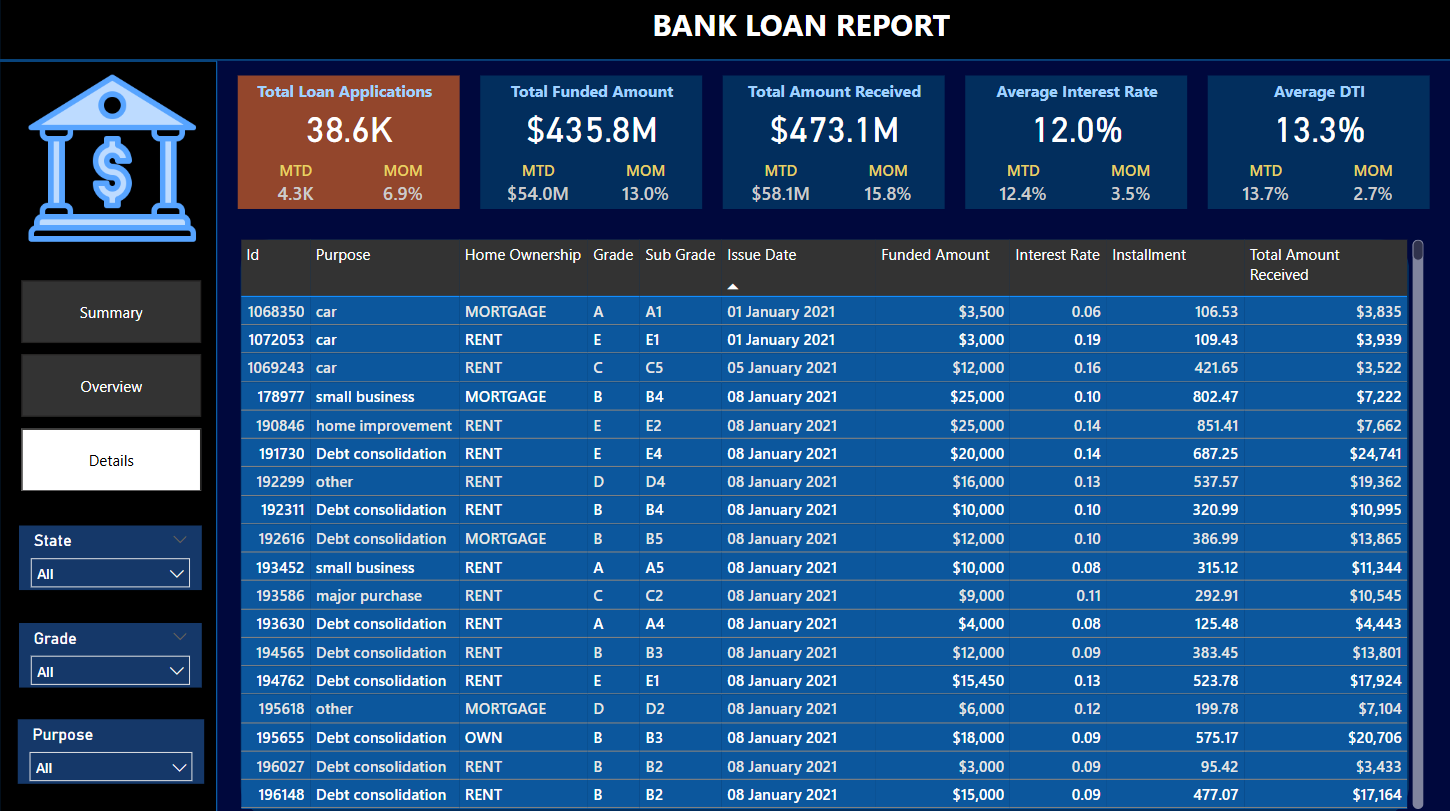

What the dashboard file says about the page in this screenshot:
{"tool":"powerbi","page":{"name":"Details","canvas":[1280,720],"ordinal":2},"visuals":[{"type":"shape","box":[0,0,1280,55],"z":0},{"type":"shape","box":[210.1,67.4,195.3,117.4],"z":0,"group":"g1"},{"type":"shape","box":[423.3,67.4,195.3,117.4],"z":0,"group":"g3"},{"type":"shape","box":[636.5,67.4,195.3,117.4],"z":0,"group":"g2"},{"type":"shape","box":[849.7,67.4,195.3,117.4],"z":0,"group":"g4"},{"type":"shape","box":[1063,67.4,195.3,117.4],"z":0,"group":"g5"},{"type":"shape","box":[0,54.6,192,665],"z":1000},{"type":"card","fields":{"Values":["financial_loan.Total Loan Applications"]},"box":[210.9,84.9,194.8,57],"z":1000,"group":"g1"},{"type":"card","fields":{"Values":["financial_loan.Total Funded Amount"]},"box":[424.1,84.9,194.8,57],"z":1000,"group":"g3"},{"type":"card","fields":{"Values":["financial_loan.Total Amount Received"]},"box":[637.3,84.9,194.8,57],"z":1000,"group":"g2"},{"type":"card","fields":{"Values":["financial_loan.Avg Int Rate"]},"box":[850.5,84.9,194.8,57],"z":1000,"group":"g4"},{"type":"card","fields":{"Values":["financial_loan.Avg DTI"]},"box":[1063.8,84.9,194.8,57],"z":1000,"group":"g5"},{"type":"textbox","box":[569.3,0,282.8,49.1],"z":2000},{"type":"textbox","box":[222.1,66.8,172.5,33.4],"z":2000,"group":"g1"},{"type":"textbox","box":[435.3,66.8,172.5,33.4],"z":2000,"group":"g3"},{"type":"textbox","box":[648.5,66.8,172.5,33.4],"z":2000,"group":"g2"},{"type":"textbox","box":[861.7,66.8,172.5,33.4],"z":2000,"group":"g4"},{"type":"textbox","box":[1075,66.8,172.5,33.4],"z":2000,"group":"g5"},{"type":"group","id":"g1","title":"Group 1","box":[210.1,66.8,196.2,122.4],"z":3000},{"type":"card","title":"MTD","fields":{"Values":["financial_loan.MTD Loan Applications"]},"box":[222.1,141.9,77.9,47.3],"z":3000,"group":"g1"},{"type":"card","title":"MTD","fields":{"Values":["financial_loan.MTD Funded Amount"]},"box":[435.3,141.9,77.9,47.3],"z":3000,"group":"g3"},{"type":"card","title":"MTD","fields":{"Values":["financial_loan.MTD Total Amount Received"]},"box":[648.5,141.9,77.9,47.3],"z":3000,"group":"g2"},{"type":"card","title":"MTD","fields":{"Values":["financial_loan.MTD Avg Int Rate"]},"box":[861.7,141.9,77.9,47.3],"z":3000,"group":"g4"},{"type":"card","title":"MTD","fields":{"Values":["financial_loan.MTD Avg DTI"]},"box":[1075,141.9,77.9,47.3],"z":3000,"group":"g5"},{"type":"group","id":"g2","title":"Group 1","box":[636.5,66.8,196.2,122.4],"z":4000},{"type":"card","title":"MOM","fields":{"Values":["financial_loan.MOM Loan Applications"]},"box":[316.7,141.9,77.9,47.3],"z":4000,"group":"g1"},{"type":"card","title":"MOM","fields":{"Values":["financial_loan.MOM Funded Amount"]},"box":[529.9,141.9,77.9,47.3],"z":4000,"group":"g3"},{"type":"card","title":"MOM","fields":{"Values":["financial_loan.MOM Total Amount Received"]},"box":[743.1,141.9,77.9,47.3],"z":4000,"group":"g2"},{"type":"card","title":"MOM","fields":{"Values":["financial_loan.MOM Avg Int Rate"]},"box":[956.3,141.9,77.9,47.3],"z":4000,"group":"g4"},{"type":"card","title":"MOM","fields":{"Values":["financial_loan.MOM Avg DTI"]},"box":[1169.6,141.9,77.9,47.3],"z":4000,"group":"g5"},{"type":"group","id":"g3","title":"Group 1","box":[423.3,66.8,196.2,122.4],"z":5000},{"type":"shape","box":[212.2,212.8,1028.2,506.9],"z":5000,"group":"g7"},{"type":"group","id":"g4","title":"Group 1","box":[849.7,66.8,196.2,122.4],"z":6000},{"type":"group","id":"g5","title":"Group 1","box":[1063,66.8,196.2,122.4],"z":7000},{"type":"slicer","fields":{"Values":["financial_loan.address_state"]},"box":[17.4,464,160.5,57],"z":8000},{"type":"slicer","fields":{"Values":["financial_loan.grade"]},"box":[17.4,550,160.5,57],"z":9000},{"type":"slicer","fields":{"Values":["financial_loan.purpose"]},"box":[16.5,634.5,163.8,57.2],"z":10000},{"type":"group","id":"g6","title":"Group 3","box":[207,208.1,1051.2,511.6],"z":11000},{"type":"group","id":"g7","title":"Group 2","box":[212.2,212.8,1028.2,506.9],"z":11500,"group":"g6"},{"type":"image","box":[16.3,47.7,166.3,187.2],"z":12000},{"type":"pageNavigator","box":[19.8,248.8,158.1,187.2],"z":13000},{"type":"tableEx","fields":{"Values":["financial_loan.id","financial_loan.purpose","financial_loan.home_ownership","financial_loan.grade","financial_loan.sub_grade","financial_loan.issue_date","financial_loan.Total Funded Amount","Sum(financial_loan.int_rate)","Sum(financial_loan.installment)","financial_loan.Total Amount Received"]},"box":[207,208.1,1051.2,510.5],"z":13001,"group":"g6"}]}

Visuals, with their boxes in screenshot pixels (x1, y1, x2, y2), scaled from the page's 1280x720 canvas onto the 1450x811 screenshot:
shape: BBox(0, 0, 1449, 62)
shape: BBox(238, 76, 459, 208)
shape: BBox(480, 76, 701, 208)
shape: BBox(721, 76, 942, 208)
shape: BBox(963, 76, 1184, 208)
shape: BBox(1204, 76, 1425, 208)
shape: BBox(0, 62, 218, 810)
card - financial_loan.Total Loan Applications: BBox(239, 96, 460, 160)
card - financial_loan.Total Funded Amount: BBox(480, 96, 701, 160)
card - financial_loan.Total Amount Received: BBox(722, 96, 943, 160)
card - financial_loan.Avg Int Rate: BBox(963, 96, 1184, 160)
card - financial_loan.Avg DTI: BBox(1205, 96, 1426, 160)
textbox: BBox(645, 0, 965, 55)
textbox: BBox(252, 75, 447, 113)
textbox: BBox(493, 75, 689, 113)
textbox: BBox(735, 75, 930, 113)
textbox: BBox(976, 75, 1172, 113)
textbox: BBox(1218, 75, 1413, 113)
"Group 1" group: BBox(238, 75, 460, 213)
"MTD" card: BBox(252, 160, 340, 213)
"MTD" card: BBox(493, 160, 581, 213)
"MTD" card: BBox(735, 160, 823, 213)
"MTD" card: BBox(976, 160, 1064, 213)
"MTD" card: BBox(1218, 160, 1306, 213)
"Group 1" group: BBox(721, 75, 943, 213)
"MOM" card: BBox(359, 160, 447, 213)
"MOM" card: BBox(600, 160, 689, 213)
"MOM" card: BBox(842, 160, 930, 213)
"MOM" card: BBox(1083, 160, 1172, 213)
"MOM" card: BBox(1325, 160, 1413, 213)
"Group 1" group: BBox(480, 75, 702, 213)
shape: BBox(240, 240, 1405, 810)
"Group 1" group: BBox(963, 75, 1185, 213)
"Group 1" group: BBox(1204, 75, 1426, 213)
slicer - financial_loan.address_state: BBox(20, 523, 202, 587)
slicer - financial_loan.grade: BBox(20, 620, 202, 684)
slicer - financial_loan.purpose: BBox(19, 715, 204, 779)
"Group 3" group: BBox(234, 234, 1425, 810)
"Group 2" group: BBox(240, 240, 1405, 810)
image: BBox(18, 54, 207, 265)
pageNavigator: BBox(22, 280, 202, 491)
tableEx - financial_loan.id x financial_loan.purpose: BBox(234, 234, 1425, 809)
